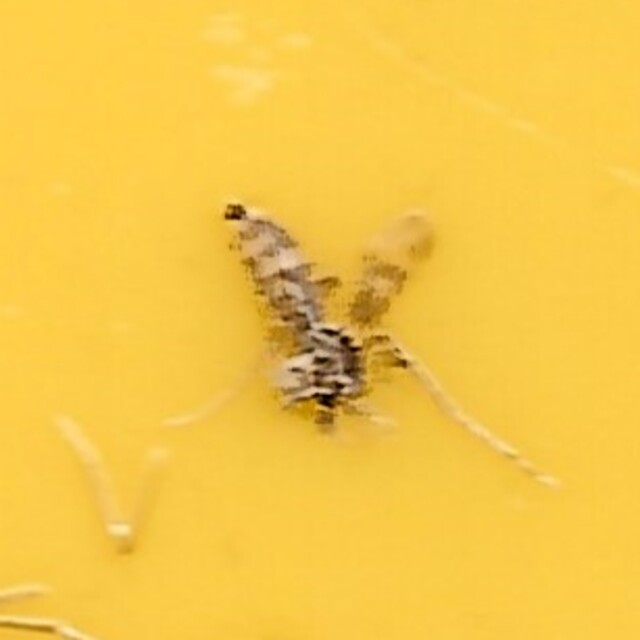Nematocera: (208, 196, 432, 444)
